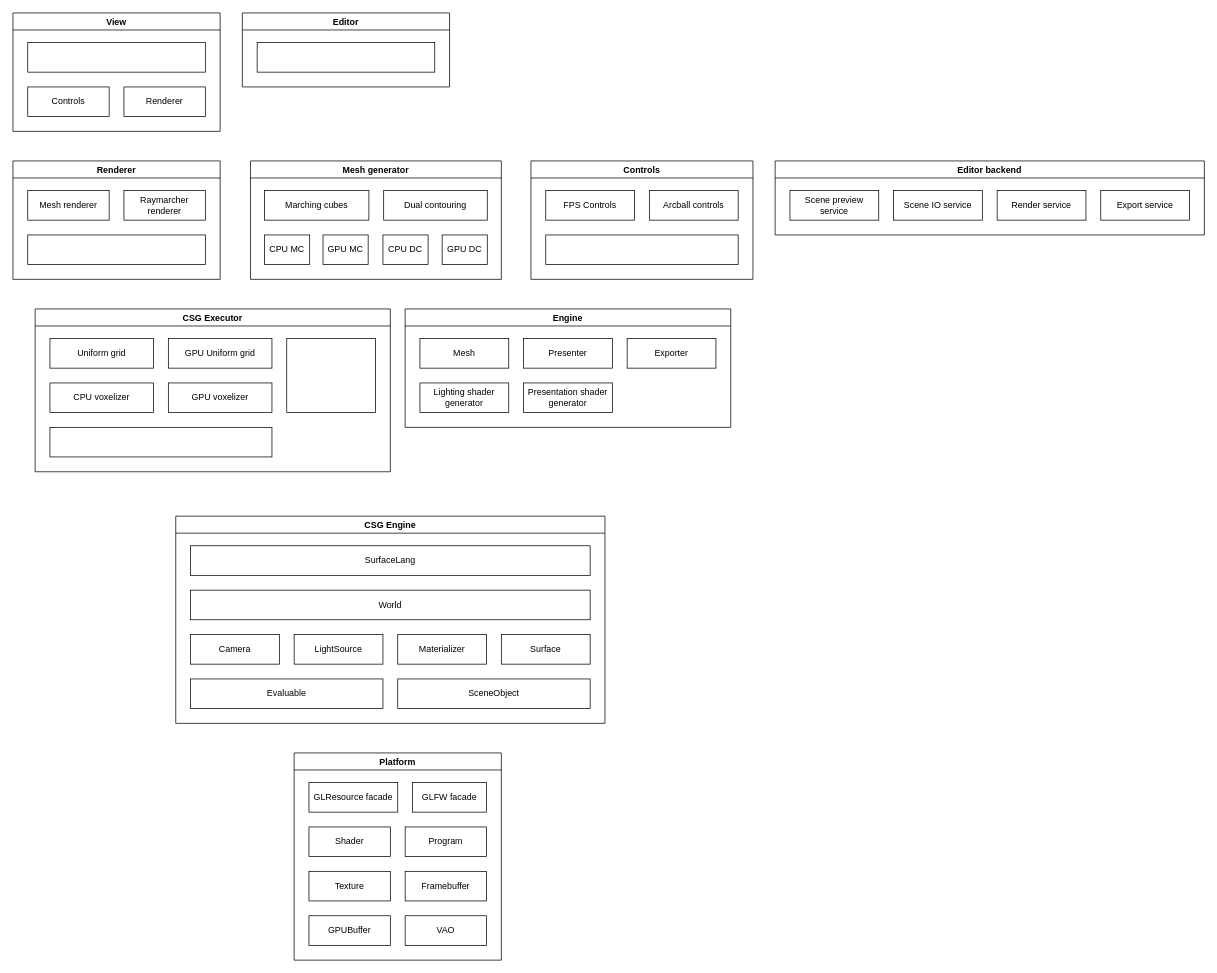
The diagram is 1217 pixels wide and 973 high, and some of its shapes have lost their labels. Each missing label, with the centre of its shape:
EditorWindow: (345,57)
Input manager: (641,249)
Pipeline: (116,249)
ScenePreviewWindow: (116,57)
Voxel: (160,442)
World shader generator: (331,375)
